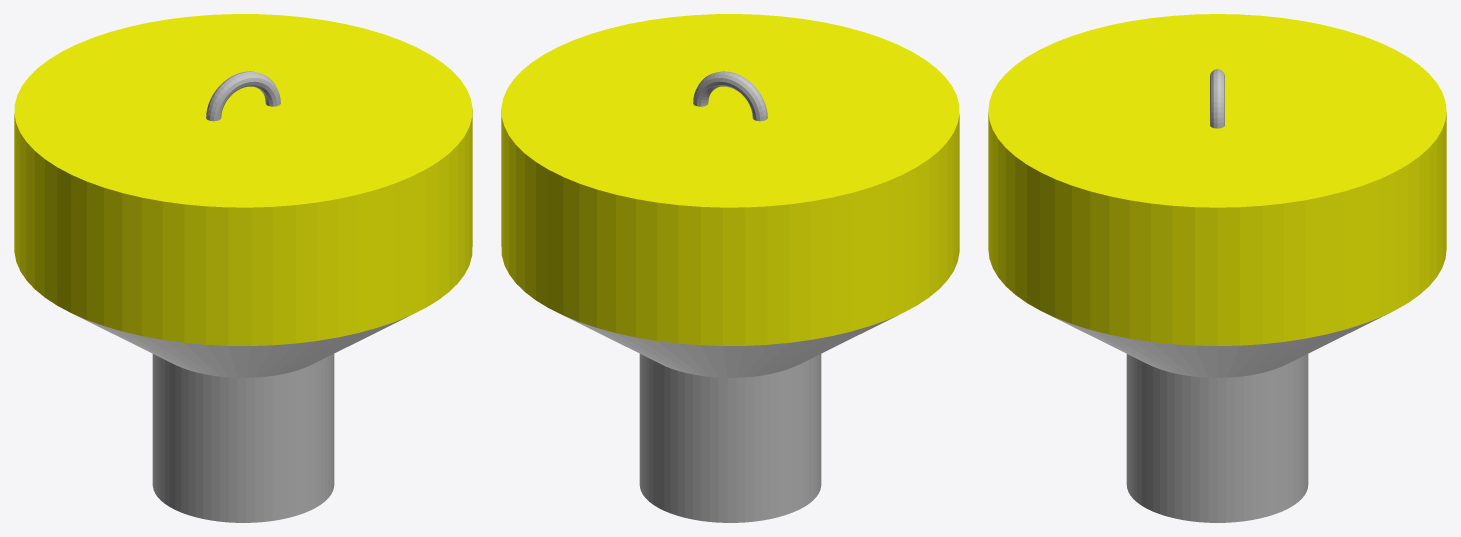
Rendered from Boy-Mooring.gltf.
3 renders of one model, left to right at view 1: azimuth 30°, elevation 25°; view 2: azimuth 150°, elevation 25°; view 3: azimuth 270°, elevation 25°, orthographic.
Visible parts, largest first — view 1: Cylinder.035, Cylinder.036, Torus; view 2: Cylinder.035, Cylinder.036, Torus; view 3: Cylinder.035, Cylinder.036, Torus.
Part boxes in pixels (x1,y1,x2,y2): Cylinder.035: (14, 14, 472, 345); Cylinder.036: (74, 314, 407, 522); Torus: (206, 71, 280, 121); Cylinder.035: (501, 14, 959, 345); Cylinder.036: (566, 314, 899, 522); Torus: (693, 71, 767, 121); Cylinder.035: (988, 14, 1446, 345); Cylinder.036: (1044, 312, 1390, 522); Torus: (1210, 69, 1224, 128).
Size of the model in its own units: 3.6 by 3.57 by 3.6.
